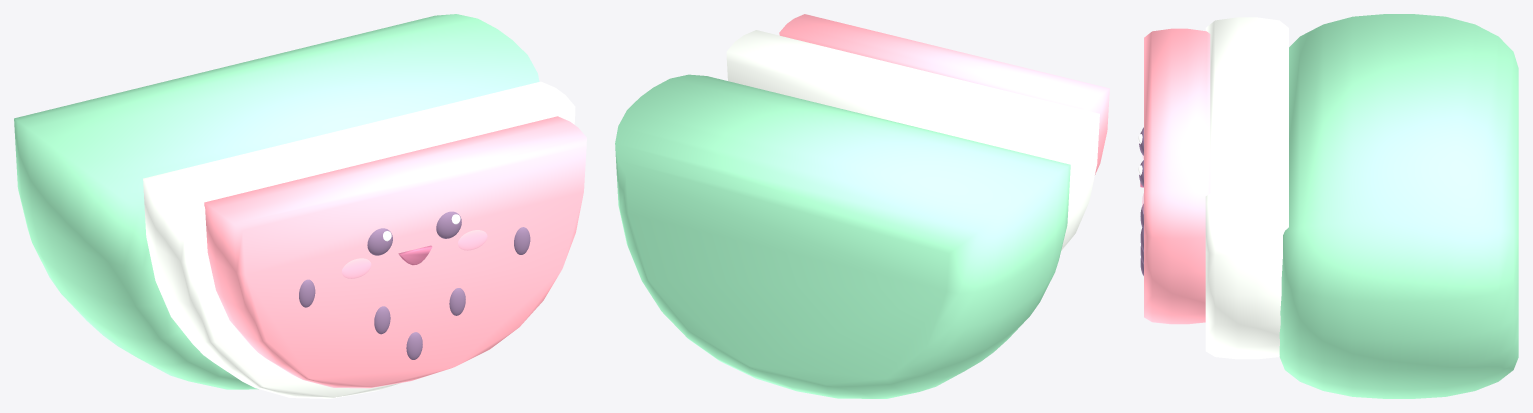
File: squishy_watermelon.glb
The picture shows the model from 3 angles, left to right: view 1: azimuth 30°, elevation 25°; view 2: azimuth 150°, elevation 25°; view 3: azimuth 270°, elevation 25°; orthographic projection. The views are drawn at different scales.
Visible parts, largest first — view 1: watermelon; view 2: watermelon; view 3: watermelon.
Part boxes in pixels (<box>): watermelon: <box>14,14,586,398</box>; watermelon: <box>615,14,1109,398</box>; watermelon: <box>1138,14,1518,398</box>.
Bounding box in the file's own units: 1.71 × 1 × 1.33.
